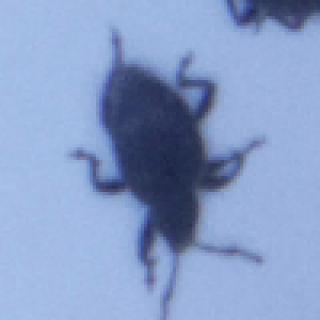bvw: (69, 27, 264, 319)
